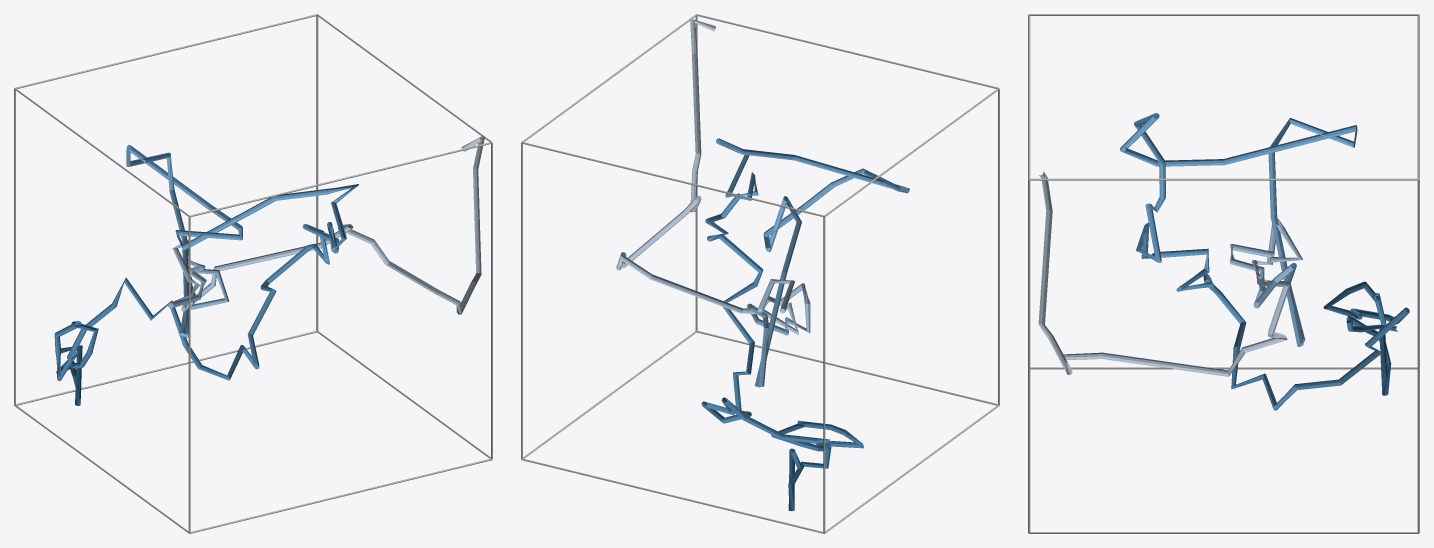
3 renders of one model, left to right at view 1: azimuth 30°, elevation 25°; view 2: azimuth 150°, elevation 25°; view 3: azimuth 270°, elevation 25°, orthographic. The views are drawn at different scales.
Visible parts, largest first — view 1: geometry_0, geometry_1; view 2: geometry_0, geometry_1; view 3: geometry_0, geometry_1.
Boxes of the visible parts, left/top/right/bottom form: geometry_0: left=54, top=136, right=484, bottom=405; geometry_1: left=14, top=14, right=492, bottom=533; geometry_0: left=616, top=19, right=909, bottom=511; geometry_1: left=521, top=14, right=999, bottom=533; geometry_0: left=1038, top=113, right=1409, bottom=410; geometry_1: left=1028, top=14, right=1419, bottom=533.
Size of the model in its own units: 0.3016 by 0.3021 by 0.3016.
